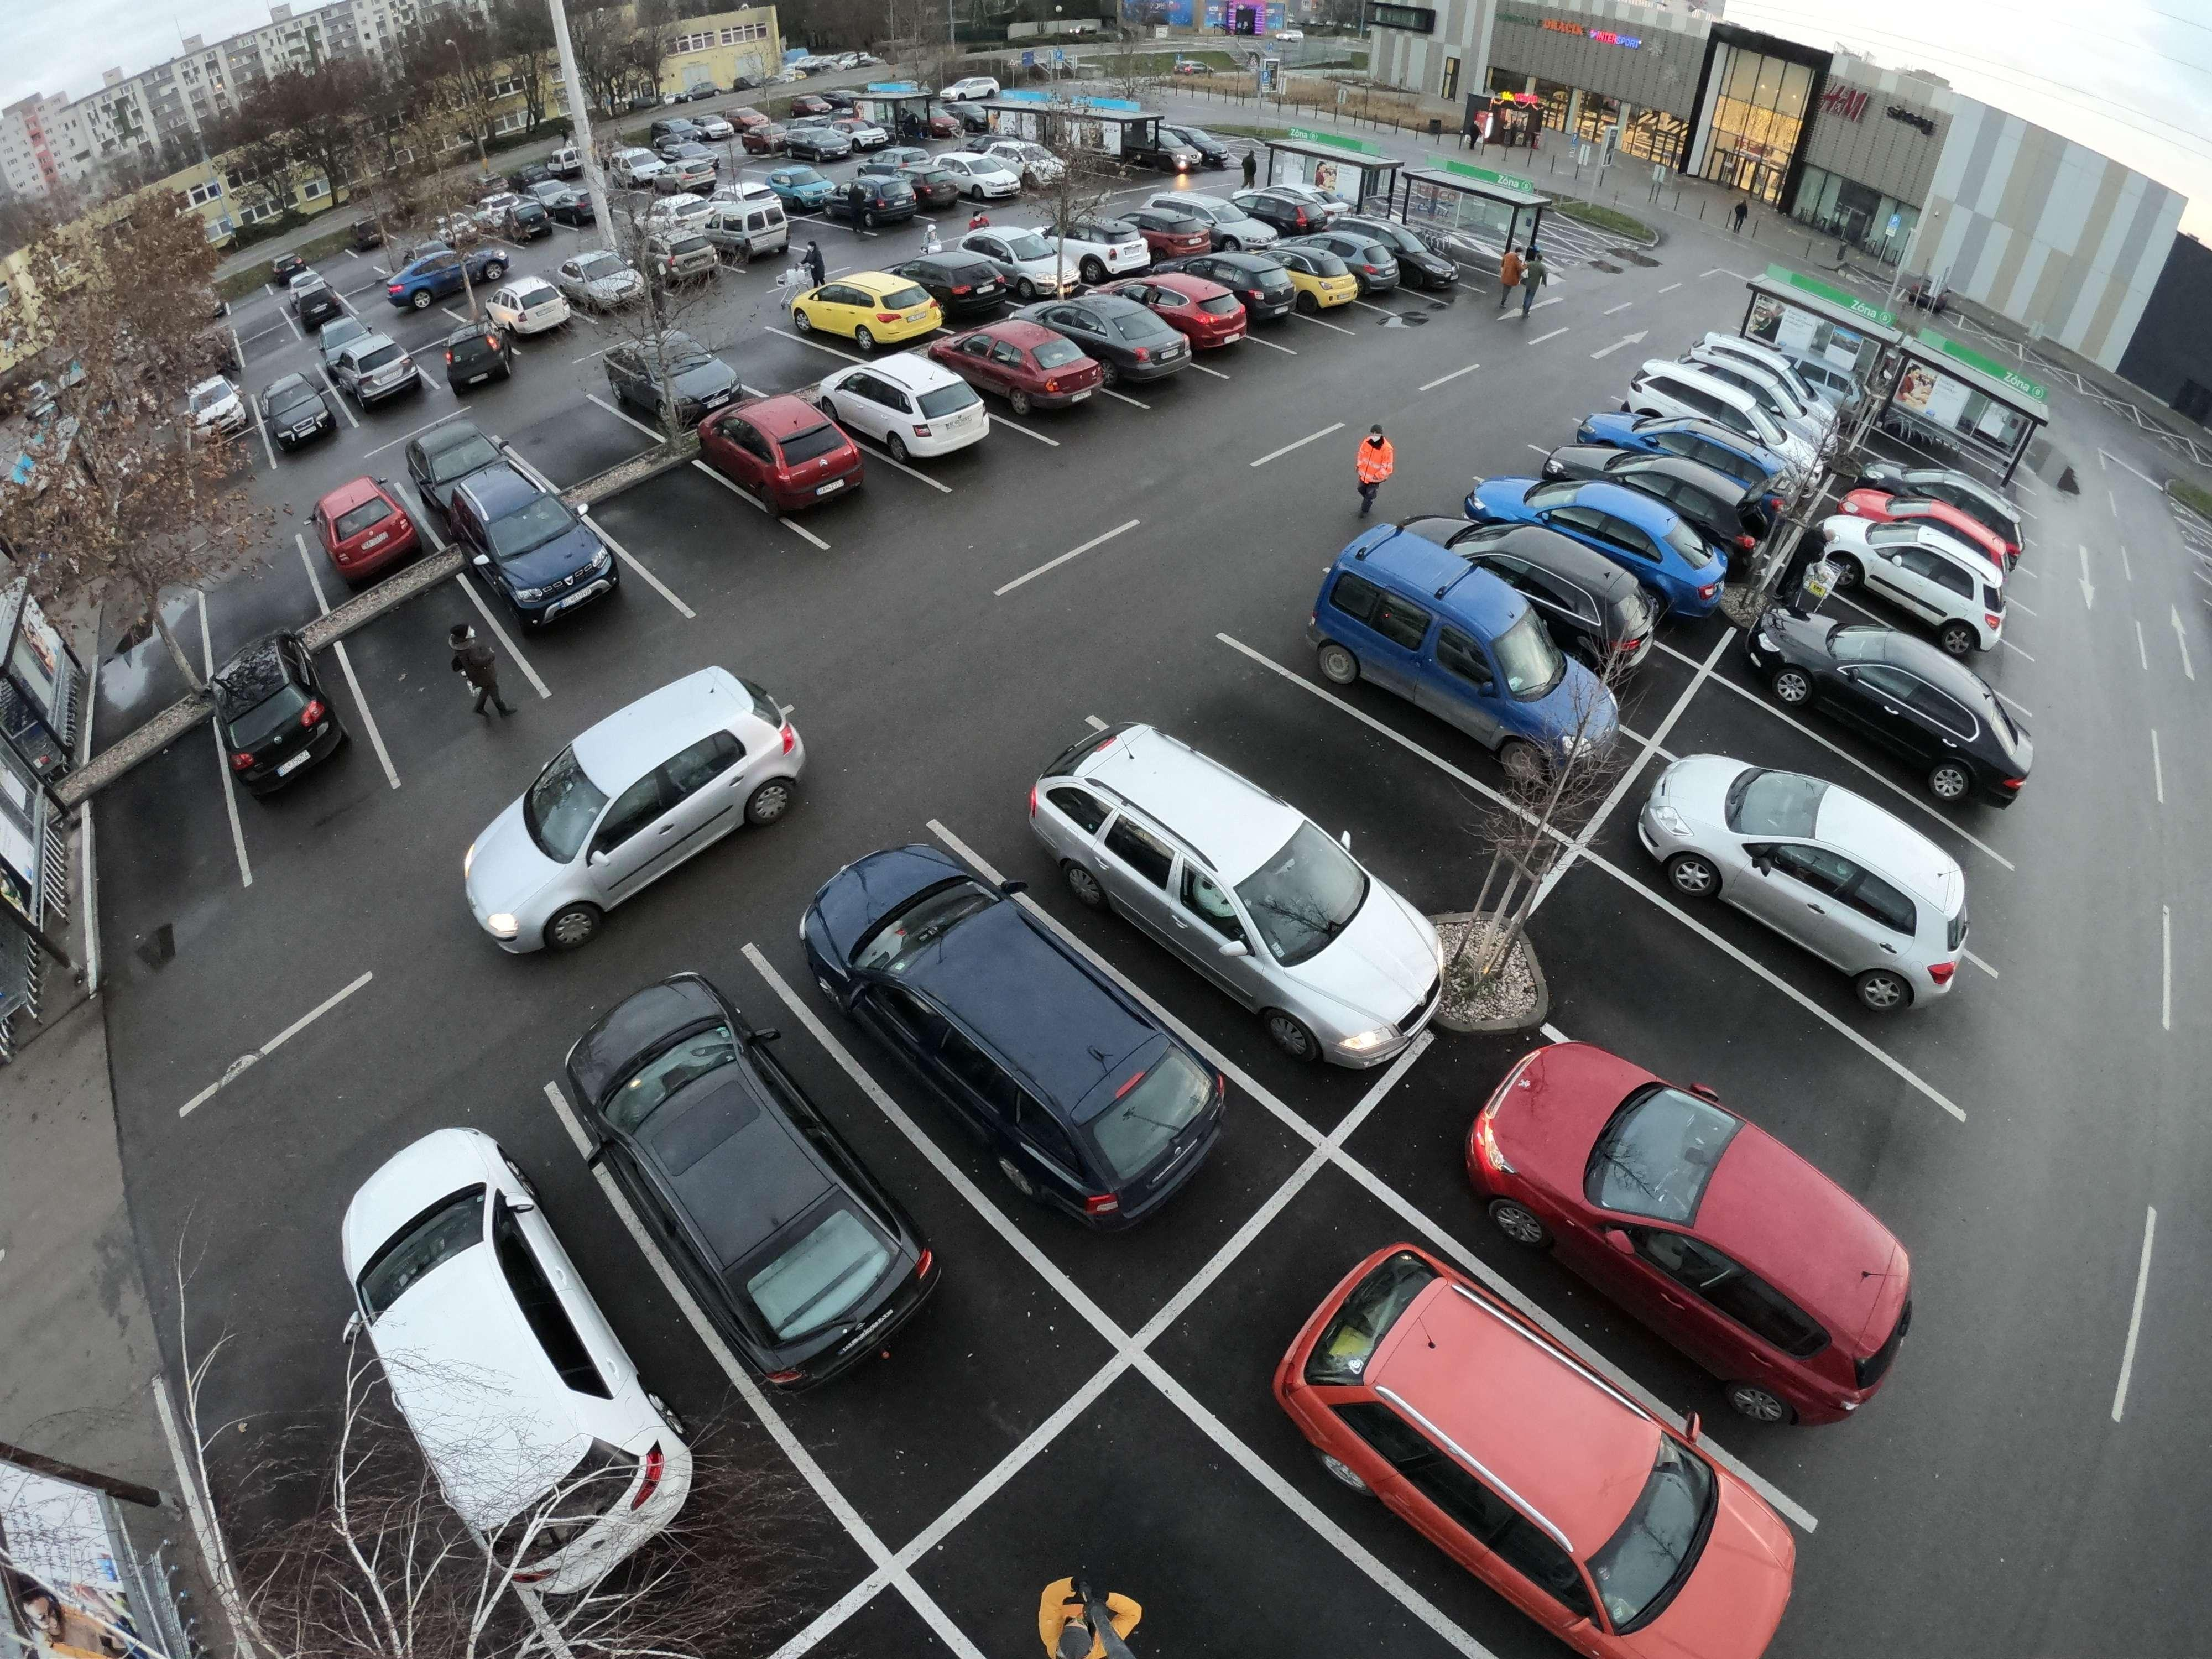empty: (1221, 1227, 1804, 1645), (1453, 1030, 1925, 1410), (336, 1107, 698, 1598), (559, 969, 954, 1391), (1029, 704, 1467, 1061), (822, 845, 1240, 1216), (456, 671, 815, 953), (1634, 758, 1984, 979), (1305, 530, 1613, 755), (1743, 601, 2026, 774), (448, 474, 637, 629), (1500, 477, 1737, 592), (1425, 521, 1642, 643), (1583, 390, 1803, 495), (1803, 530, 2008, 638), (218, 643, 361, 796), (1566, 420, 1780, 521), (697, 396, 878, 512), (1627, 362, 1817, 458), (826, 361, 996, 467), (942, 326, 1104, 420), (792, 270, 956, 357), (1040, 293, 1184, 385), (315, 476, 428, 580), (1122, 272, 1261, 354), (611, 343, 744, 429), (1860, 481, 2020, 549), (960, 221, 1089, 296), (1273, 234, 1404, 305), (900, 256, 1014, 328), (1202, 253, 1317, 319), (1134, 195, 1249, 258), (1355, 225, 1467, 289), (333, 343, 427, 413), (920, 150, 1029, 206), (263, 382, 343, 457), (493, 279, 582, 345), (556, 254, 651, 315), (833, 171, 925, 228), (437, 326, 517, 392), (716, 207, 805, 265), (646, 237, 721, 291)
occupied: (1104, 1537, 1378, 1659), (1233, 721, 1423, 836), (1590, 957, 1777, 1072), (99, 788, 233, 904), (1733, 718, 1893, 798), (368, 627, 495, 723), (108, 605, 204, 697), (207, 565, 320, 640), (634, 502, 756, 566), (526, 413, 636, 474), (728, 340, 810, 387)
